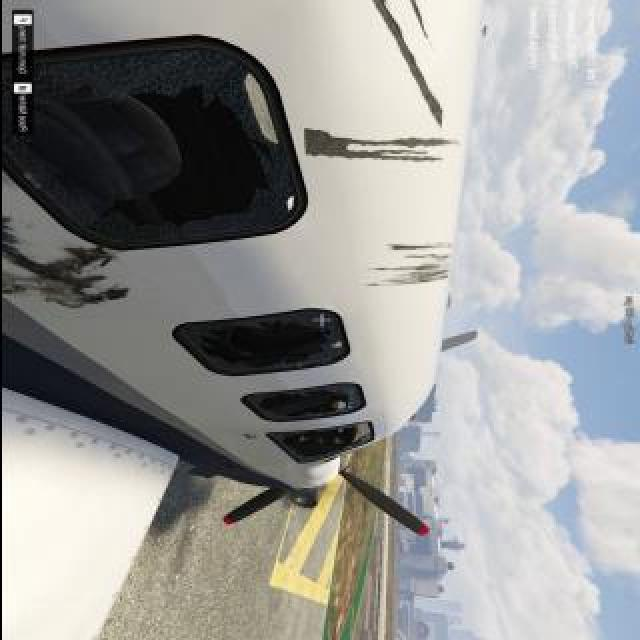dent: (371, 5, 444, 124), (1, 240, 125, 308), (301, 127, 454, 160), (367, 265, 453, 285), (390, 245, 454, 252)
